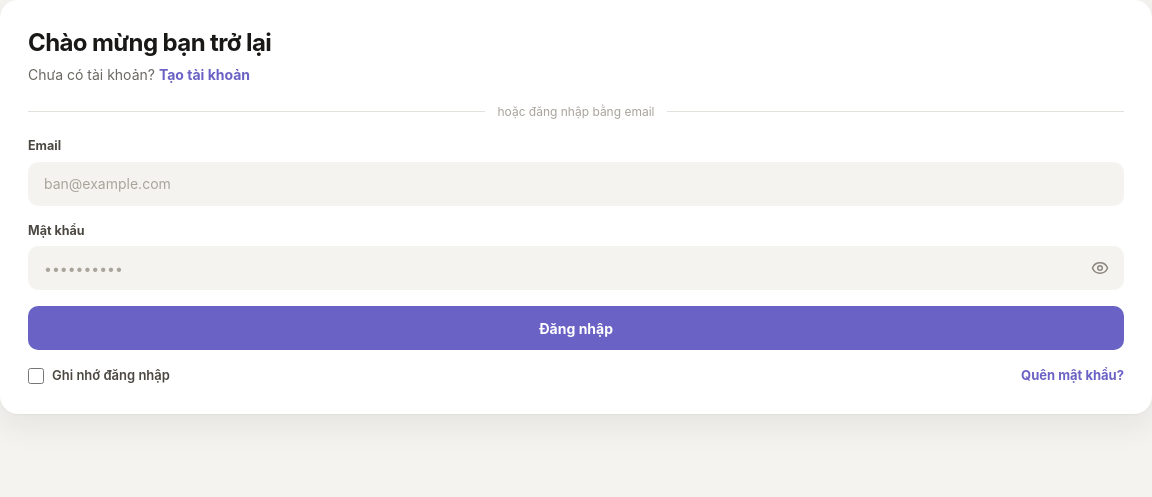
Test case: LoginPage — câu lỗi của BE theo ngôn ngữ đang hiển thị › mã lỗi không có trong bảng dịch ⇒ giữ nguyên message của BE
Type "hiep@flintflow.vn" into the field labelled "Email" at [576, 184], box [28,162,1124,206]
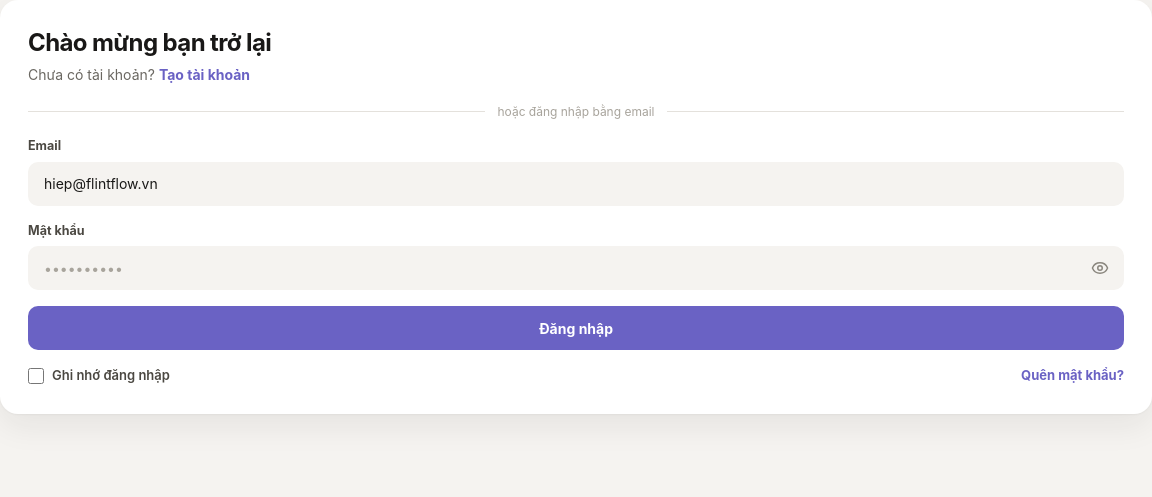
Type "sai-mat-khau" into the password field labelled "Mật khẩu" at [576, 268], box [28,246,1124,290]
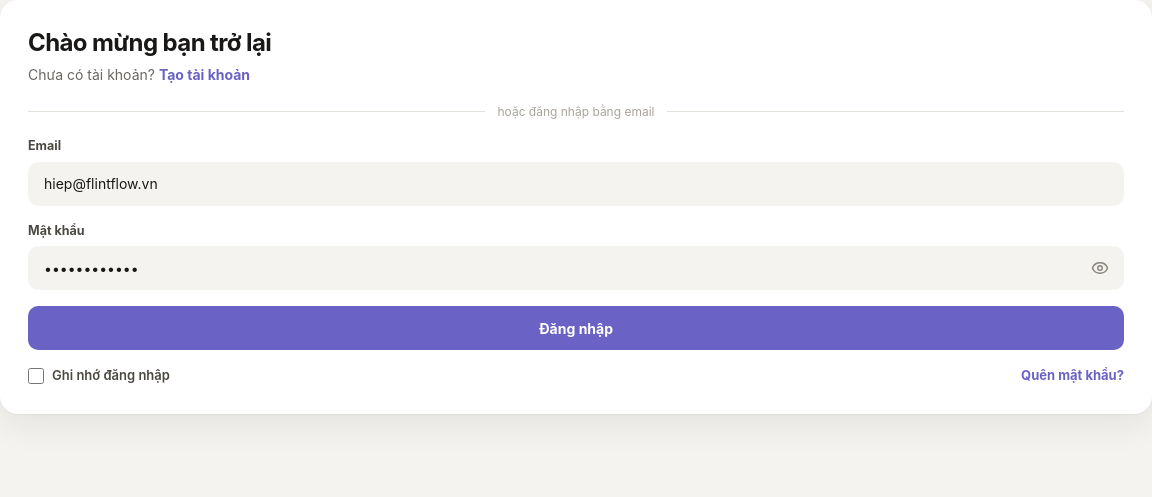
Click the button "Đăng nhập" at [576, 328], box [28,306,1124,350]
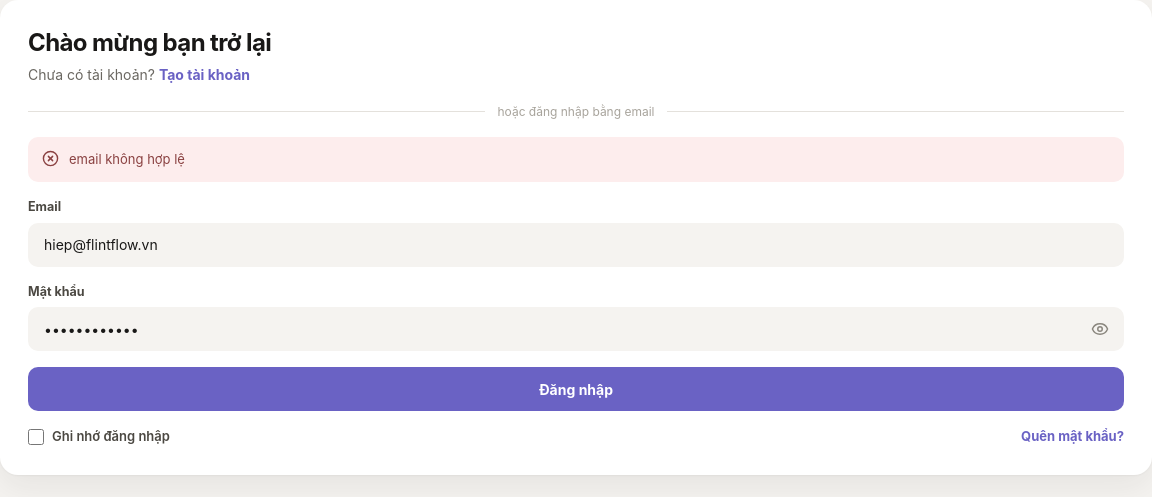
Check: the text "email không hợp lệ" is shown, box [69,151,185,167]
